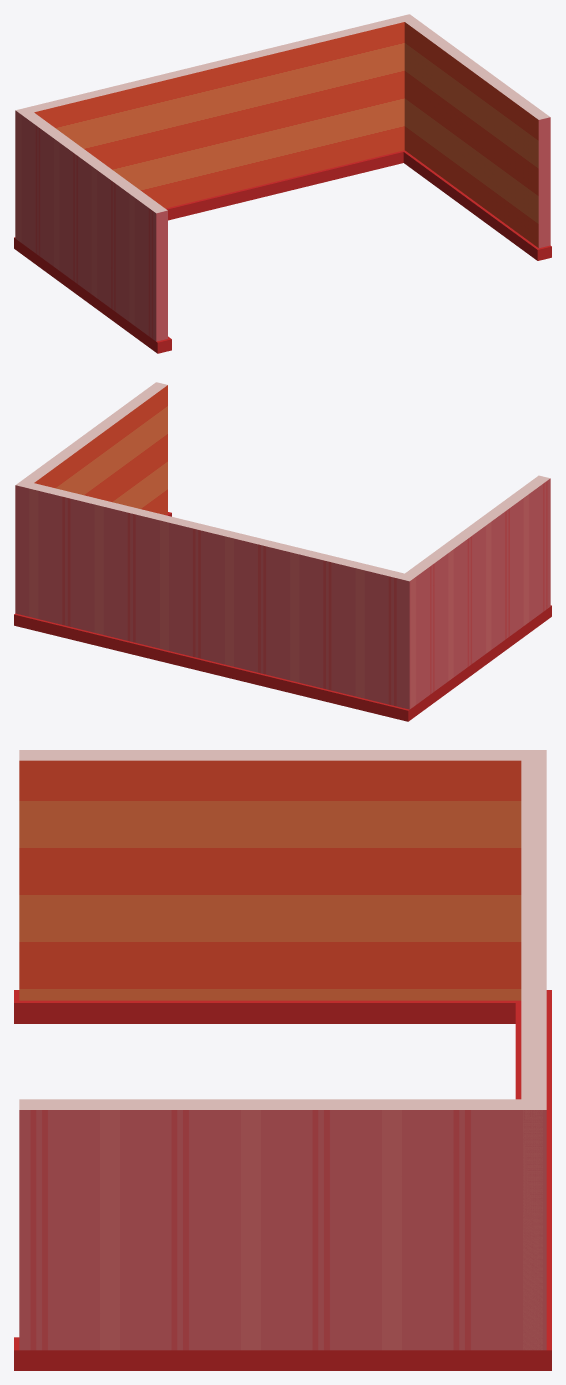
The model's file is Room02_Wall_geo.fbx.
3 renders of one model, top to bottom at view 1: azimuth 30°, elevation 25°; view 2: azimuth 150°, elevation 25°; view 3: azimuth 270°, elevation 25°, orthographic. The views are drawn at different scales.
Visible parts, largest first — view 1: Room02_Wall_geo; view 2: Room02_Wall_geo; view 3: Room02_Wall_geo.
Part boxes in pixels (x1,y1,x2,y2): Room02_Wall_geo: [14, 14, 551, 353]; Room02_Wall_geo: [14, 382, 551, 721]; Room02_Wall_geo: [14, 750, 551, 1370].
Bounding box in the file's own units: 6.03 × 3.81 × 2.04.
